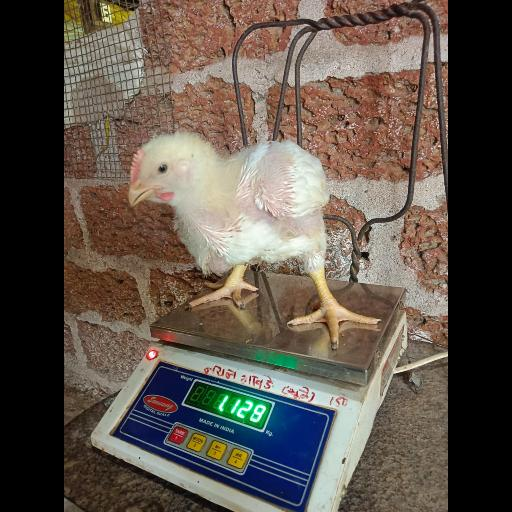chick: (127, 132, 377, 344)
